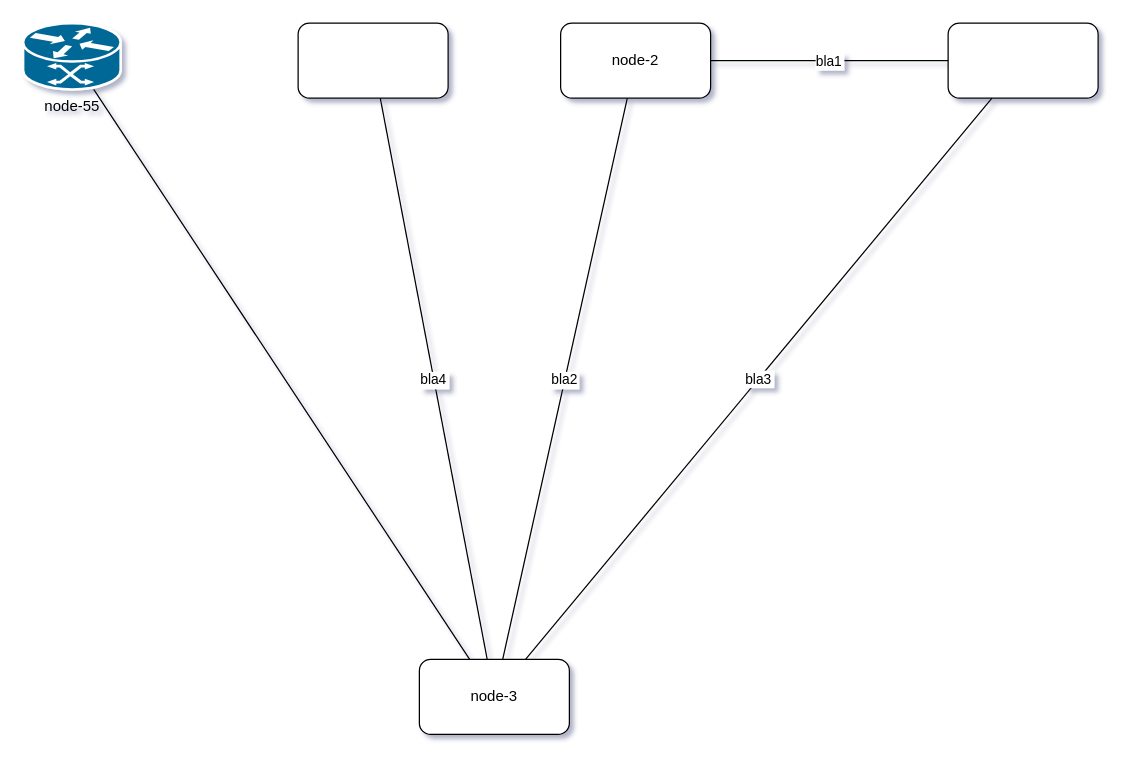
Some shapes in this 1128 by 764 pixel diagram are drawn without their labels. Each missing label, with the box of its shape:
node-1: (947, 22, 1098, 98)
node-4: (297, 22, 448, 98)
